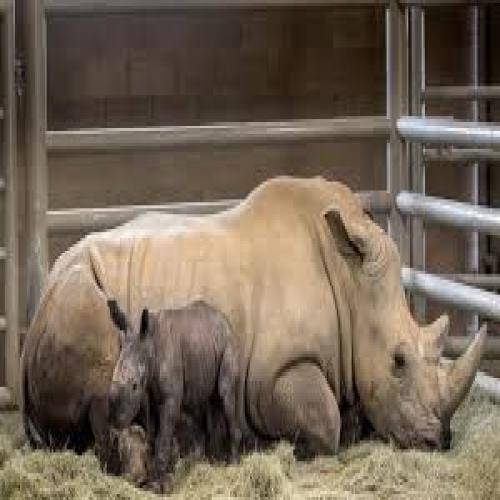rhino-endangered: (23, 176, 489, 496), (108, 298, 242, 472)
